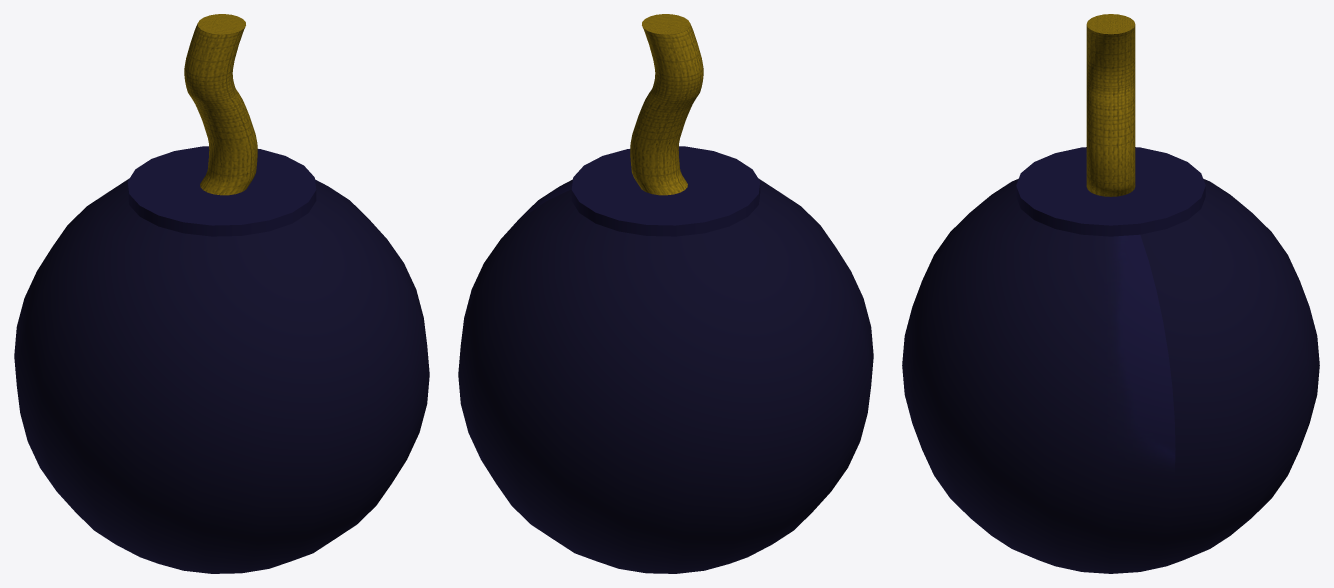
The model's file is BomberMan_Bom.fbx.
The picture shows the model from 3 angles, left to right: view 1: azimuth 30°, elevation 25°; view 2: azimuth 150°, elevation 25°; view 3: azimuth 270°, elevation 25°; orthographic projection.
Parts seen in each view (by area): view 1: pSphere2; view 2: pSphere2; view 3: pSphere2.
Boxes of the visible parts, <box> form: pSphere2: <box>14,14,429,573</box>; pSphere2: <box>458,14,873,573</box>; pSphere2: <box>902,14,1319,573</box>.
Size of the model in its own units: 6.17 by 8.64 by 6.17.
